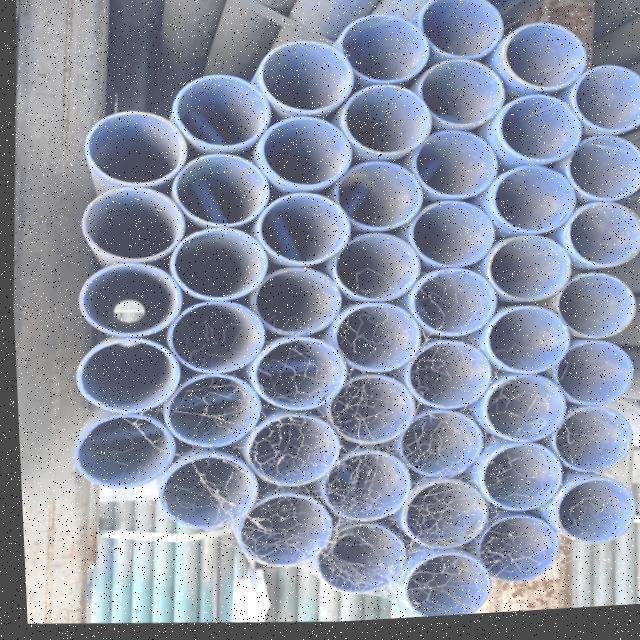pipe: (82, 110, 190, 194), (77, 188, 187, 270), (156, 454, 255, 538), (69, 413, 170, 493), (73, 338, 177, 415), (168, 77, 273, 153), (170, 155, 274, 231), (255, 42, 355, 120), (333, 15, 431, 94), (74, 266, 178, 339), (163, 229, 265, 303), (256, 194, 354, 271), (241, 416, 340, 492), (338, 88, 437, 164), (257, 115, 352, 193), (245, 340, 344, 414), (228, 495, 325, 570), (160, 300, 261, 372), (310, 523, 402, 602), (161, 377, 256, 452), (416, 60, 509, 134), (315, 453, 408, 525), (332, 164, 424, 236), (486, 168, 578, 239), (329, 236, 419, 308), (319, 376, 411, 446), (249, 269, 339, 340), (392, 482, 478, 555), (411, 130, 498, 202), (402, 345, 492, 414), (329, 306, 416, 377), (407, 270, 494, 341), (404, 205, 492, 275), (479, 310, 568, 379), (485, 240, 572, 310), (497, 96, 581, 168), (394, 411, 481, 480), (477, 377, 562, 447), (394, 558, 487, 621), (468, 518, 554, 586), (548, 408, 630, 479), (473, 447, 556, 516), (503, 30, 584, 99), (421, 0, 505, 66), (549, 483, 630, 550), (550, 348, 631, 414), (562, 140, 640, 208), (554, 281, 633, 348), (565, 207, 640, 275), (573, 71, 640, 141)
